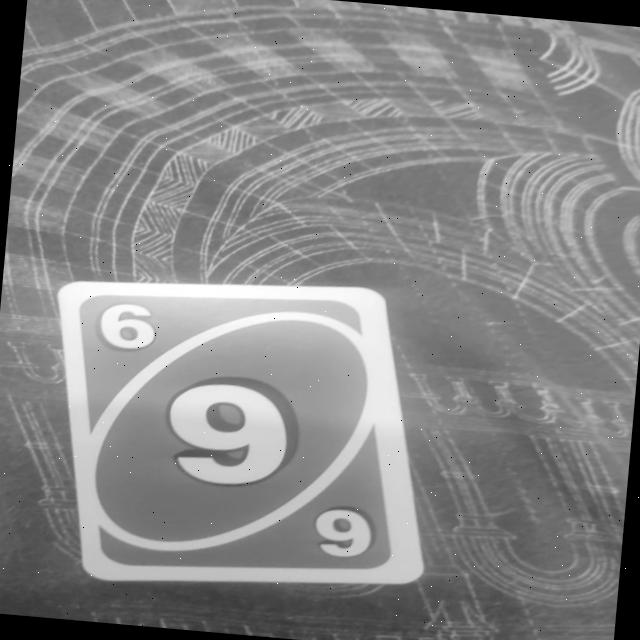card_9: (34, 259, 452, 608)
